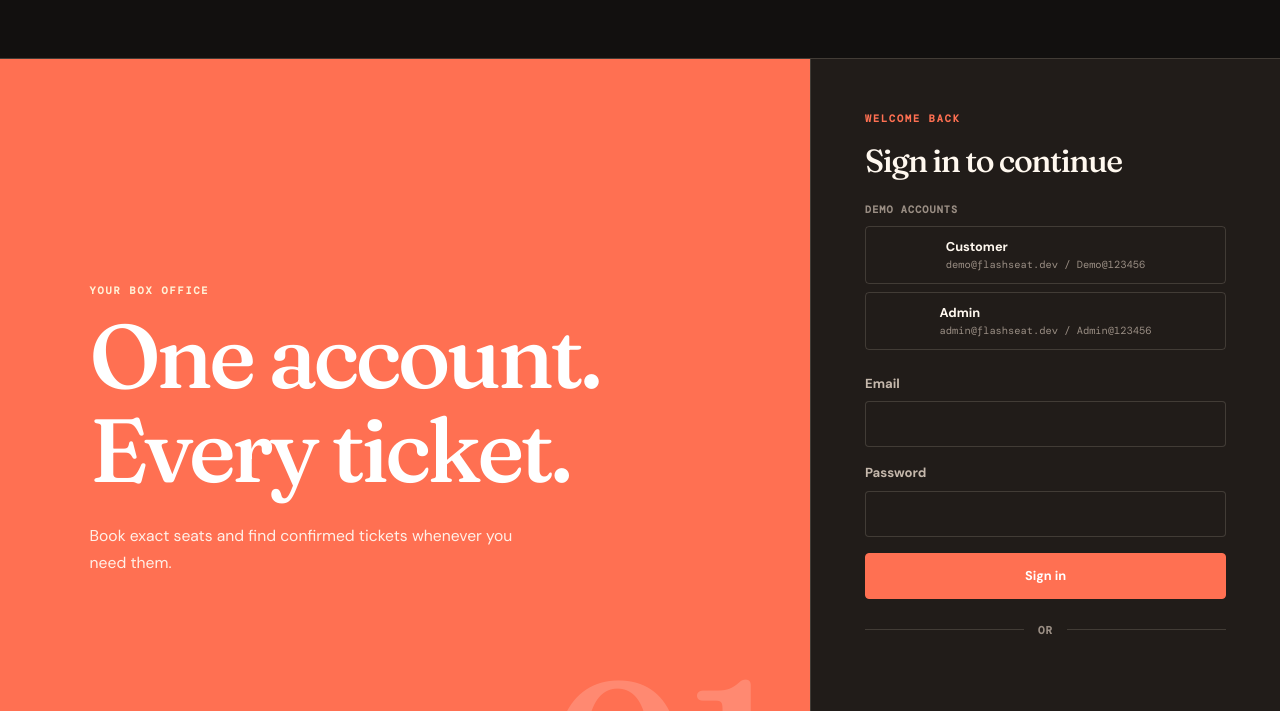
AuthPage › transitions to verify screen when login fails with unverified email
Type "unverified@example.com" into the field labelled "Email" at (1046, 424), box [865,401,1226,447]
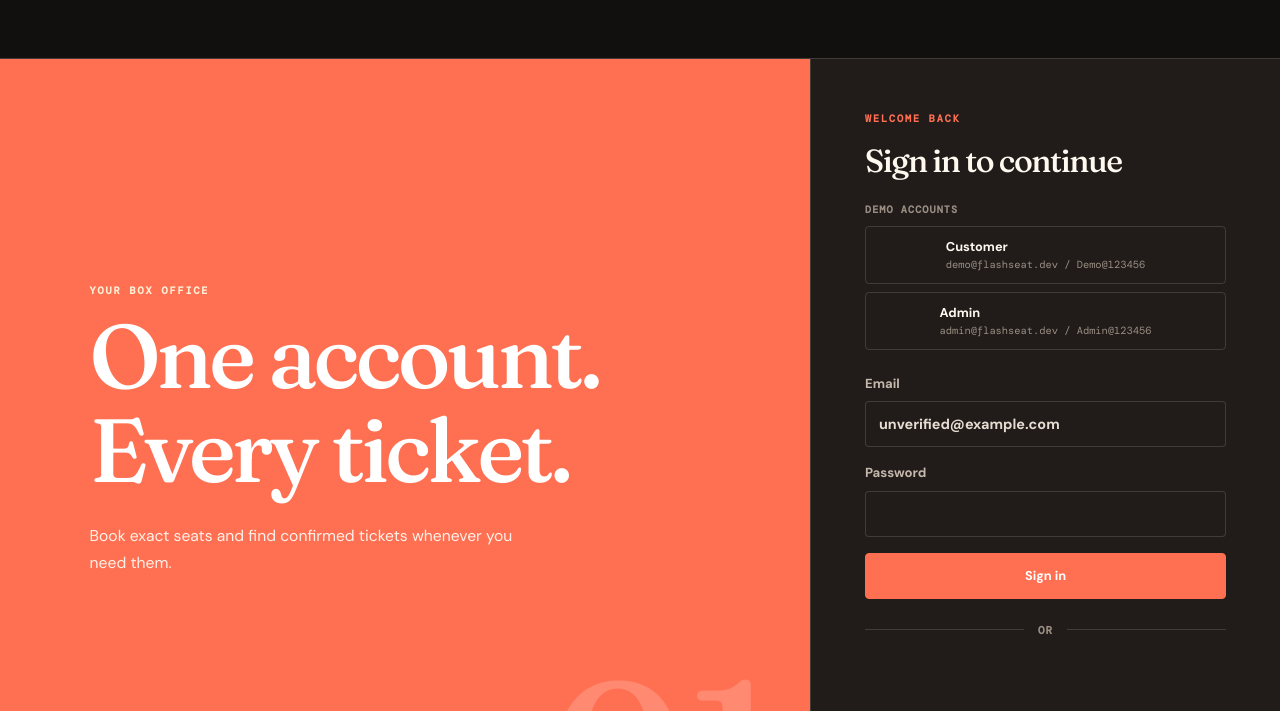
Type "Password123!" into the password field labelled "Password" at (1046, 514), box [865,491,1226,537]
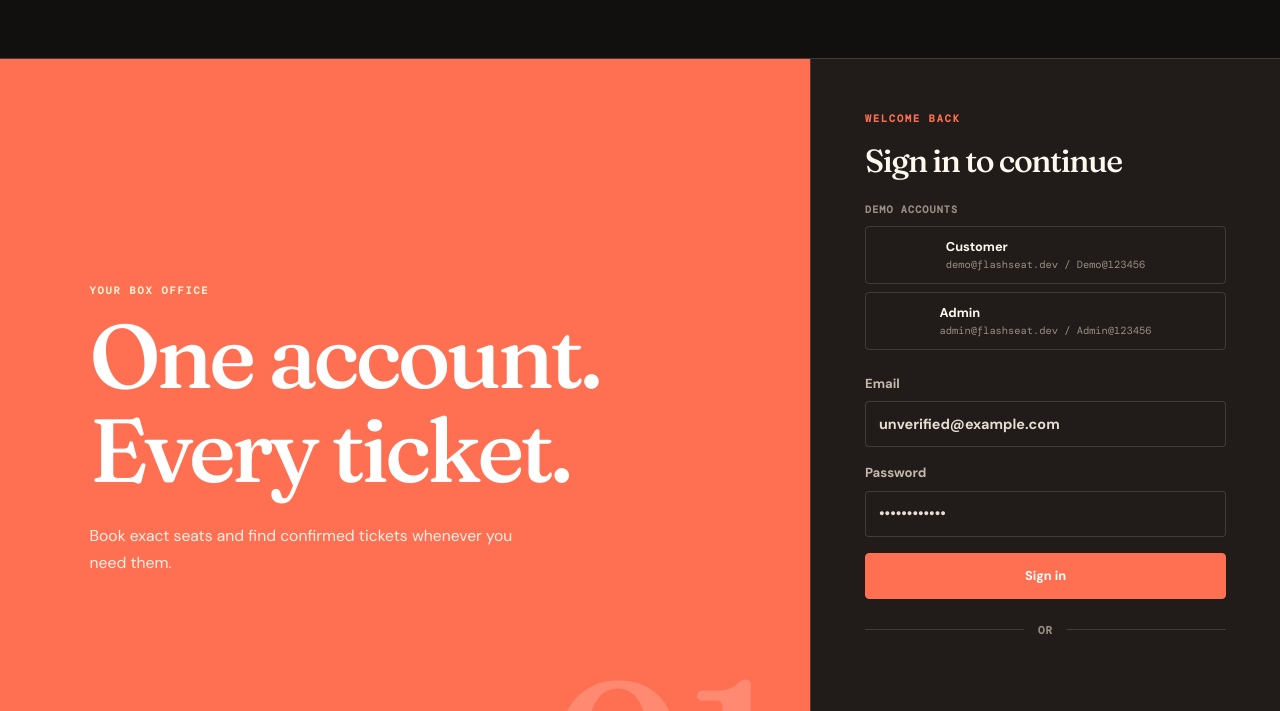
Click the button "Sign in" at (1046, 576), box [865,553,1226,599]
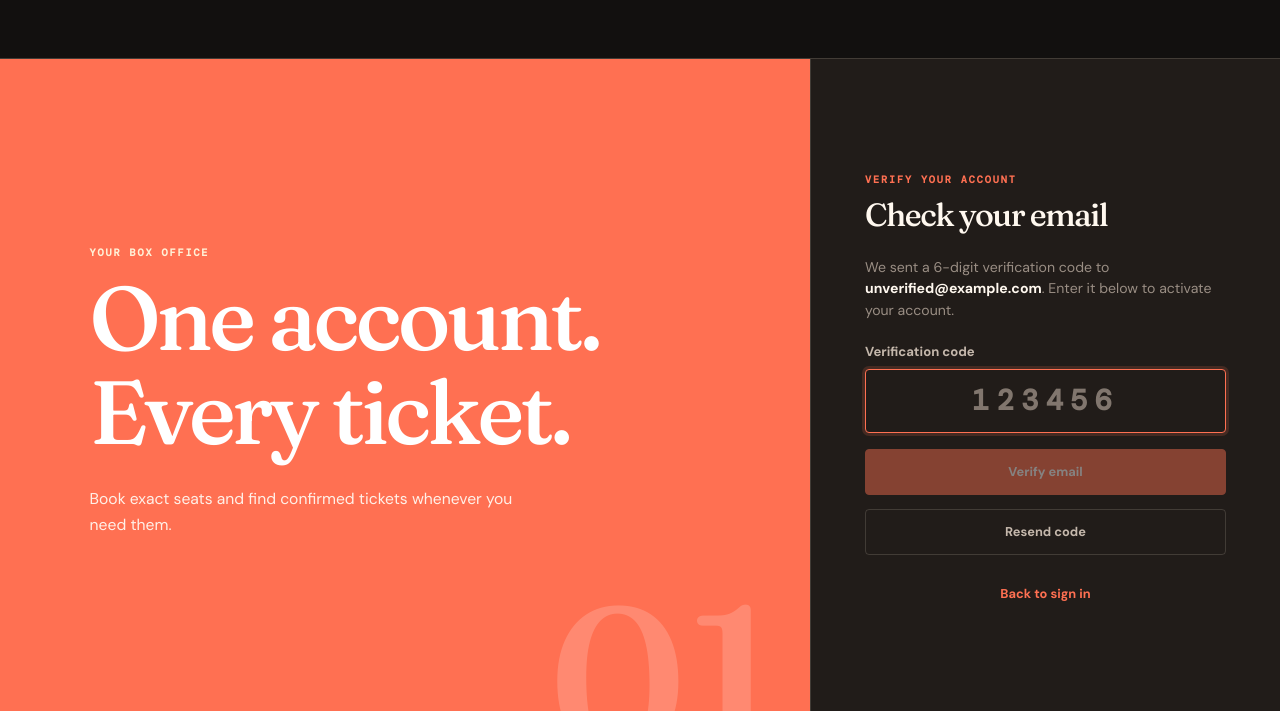
Now the heading "Check your email" is shown, box [865,195,1107,234]
Now the text "unverified@example.com" is shown, box [865,279,1042,297]
